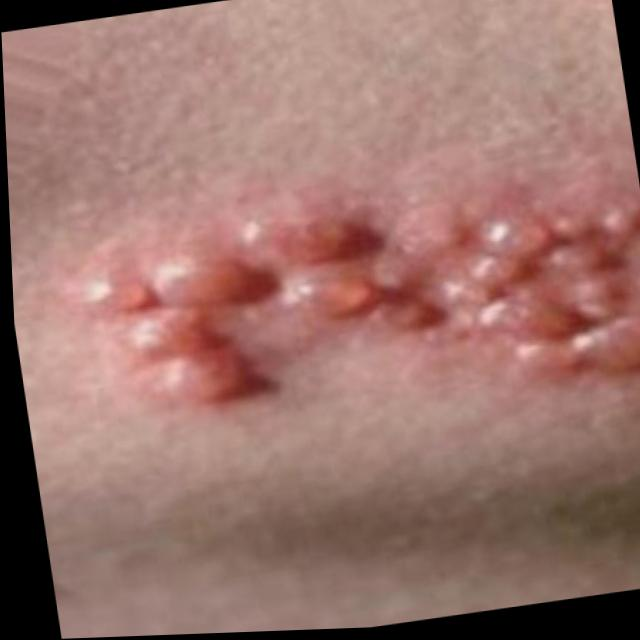Shingles: (90, 181, 640, 413)
